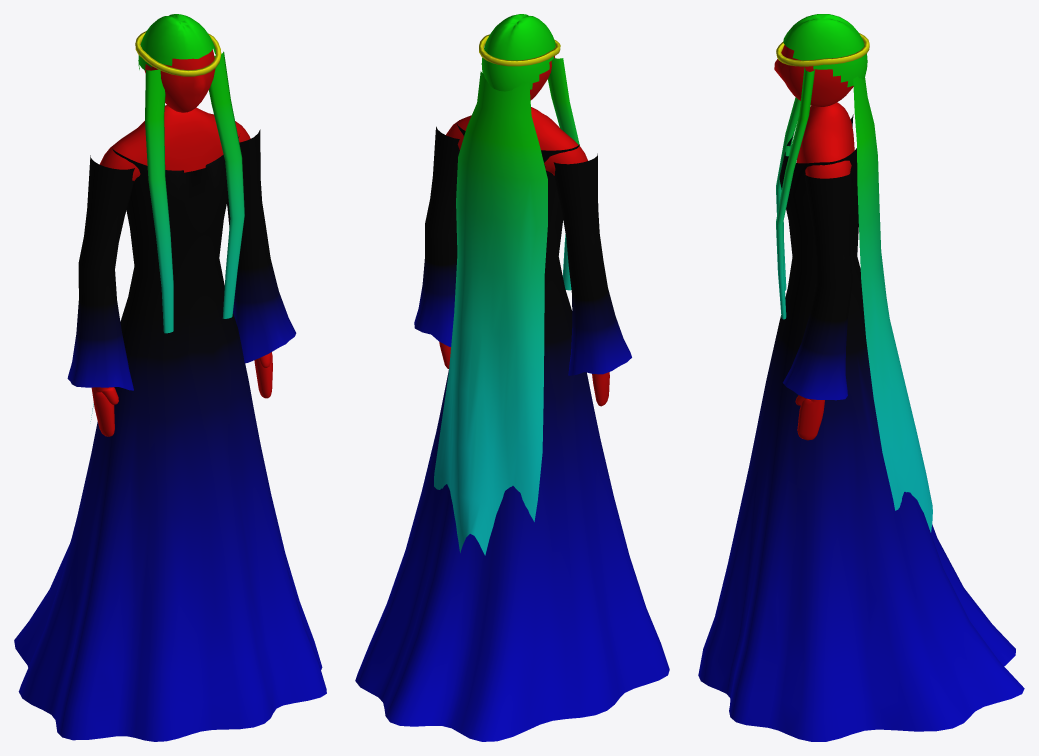
Rendered from spirit-lod1.glb.
The picture shows the model from 3 angles, left to right: view 1: azimuth 30°, elevation 25°; view 2: azimuth 150°, elevation 25°; view 3: azimuth 270°, elevation 25°; orthographic projection. The views are drawn at different scales.
Visible parts, largest first — view 1: SpiritLOD1; view 2: SpiritLOD1; view 3: SpiritLOD1.
Part boxes in pixels (x1,y1,x2,y2): SpiritLOD1: (14,14,326,741); SpiritLOD1: (355,14,669,741); SpiritLOD1: (698,14,1024,741).
Bounding box in the file's own units: 0.4254 × 1.01 × 0.4504.
